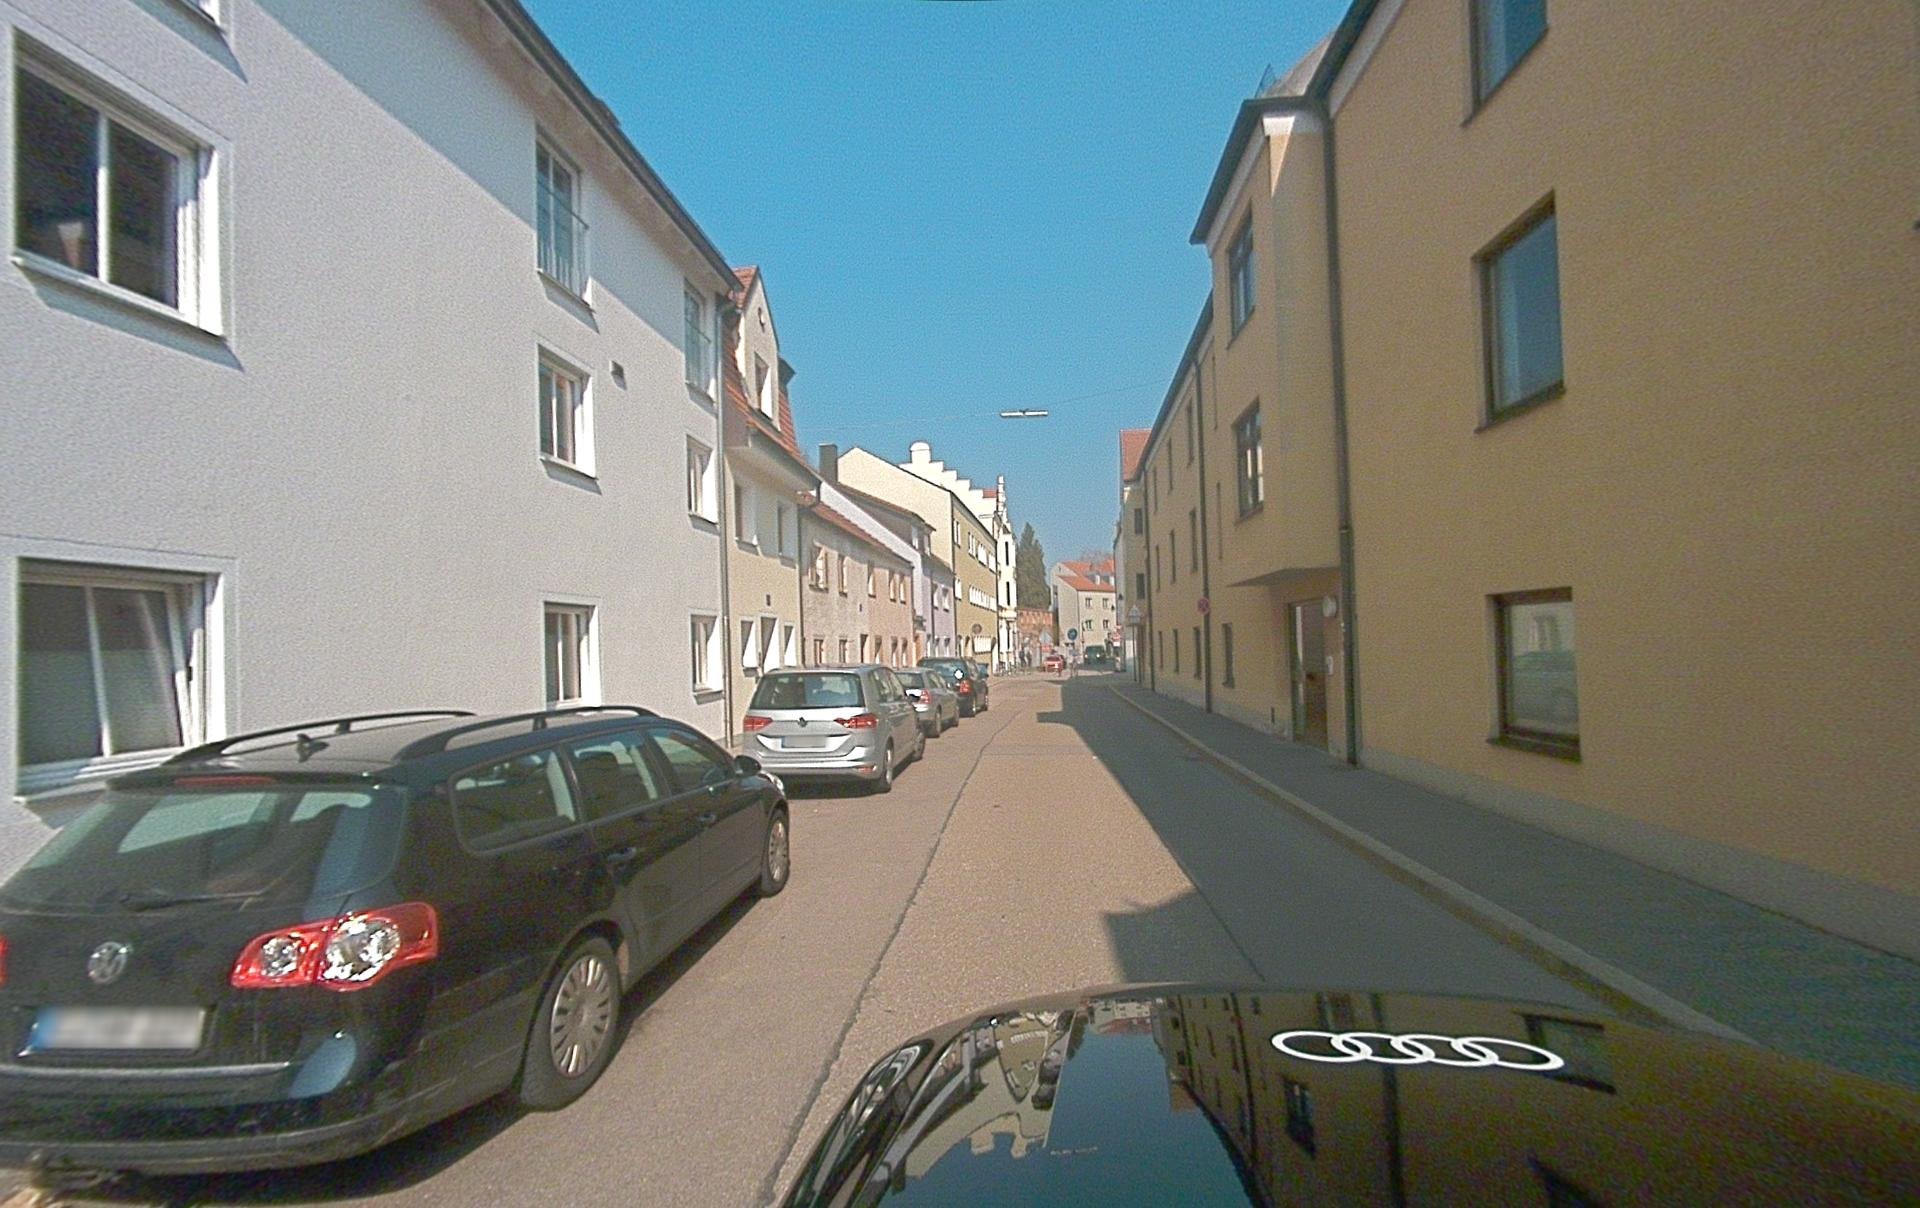car: (1, 703, 792, 1182), (775, 981, 1919, 1207), (742, 664, 925, 793), (890, 668, 960, 738), (918, 657, 989, 717), (1043, 653, 1064, 672)
traffic sign: (999, 409, 1049, 419)
